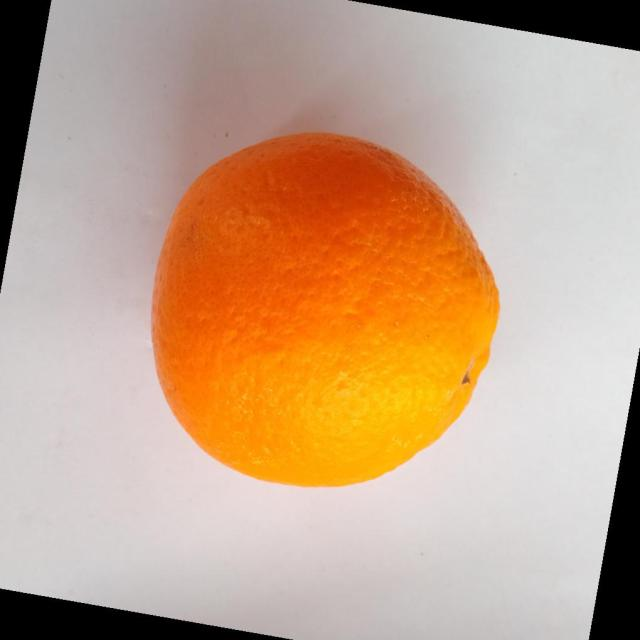fresh orange: (149, 130, 500, 489)
